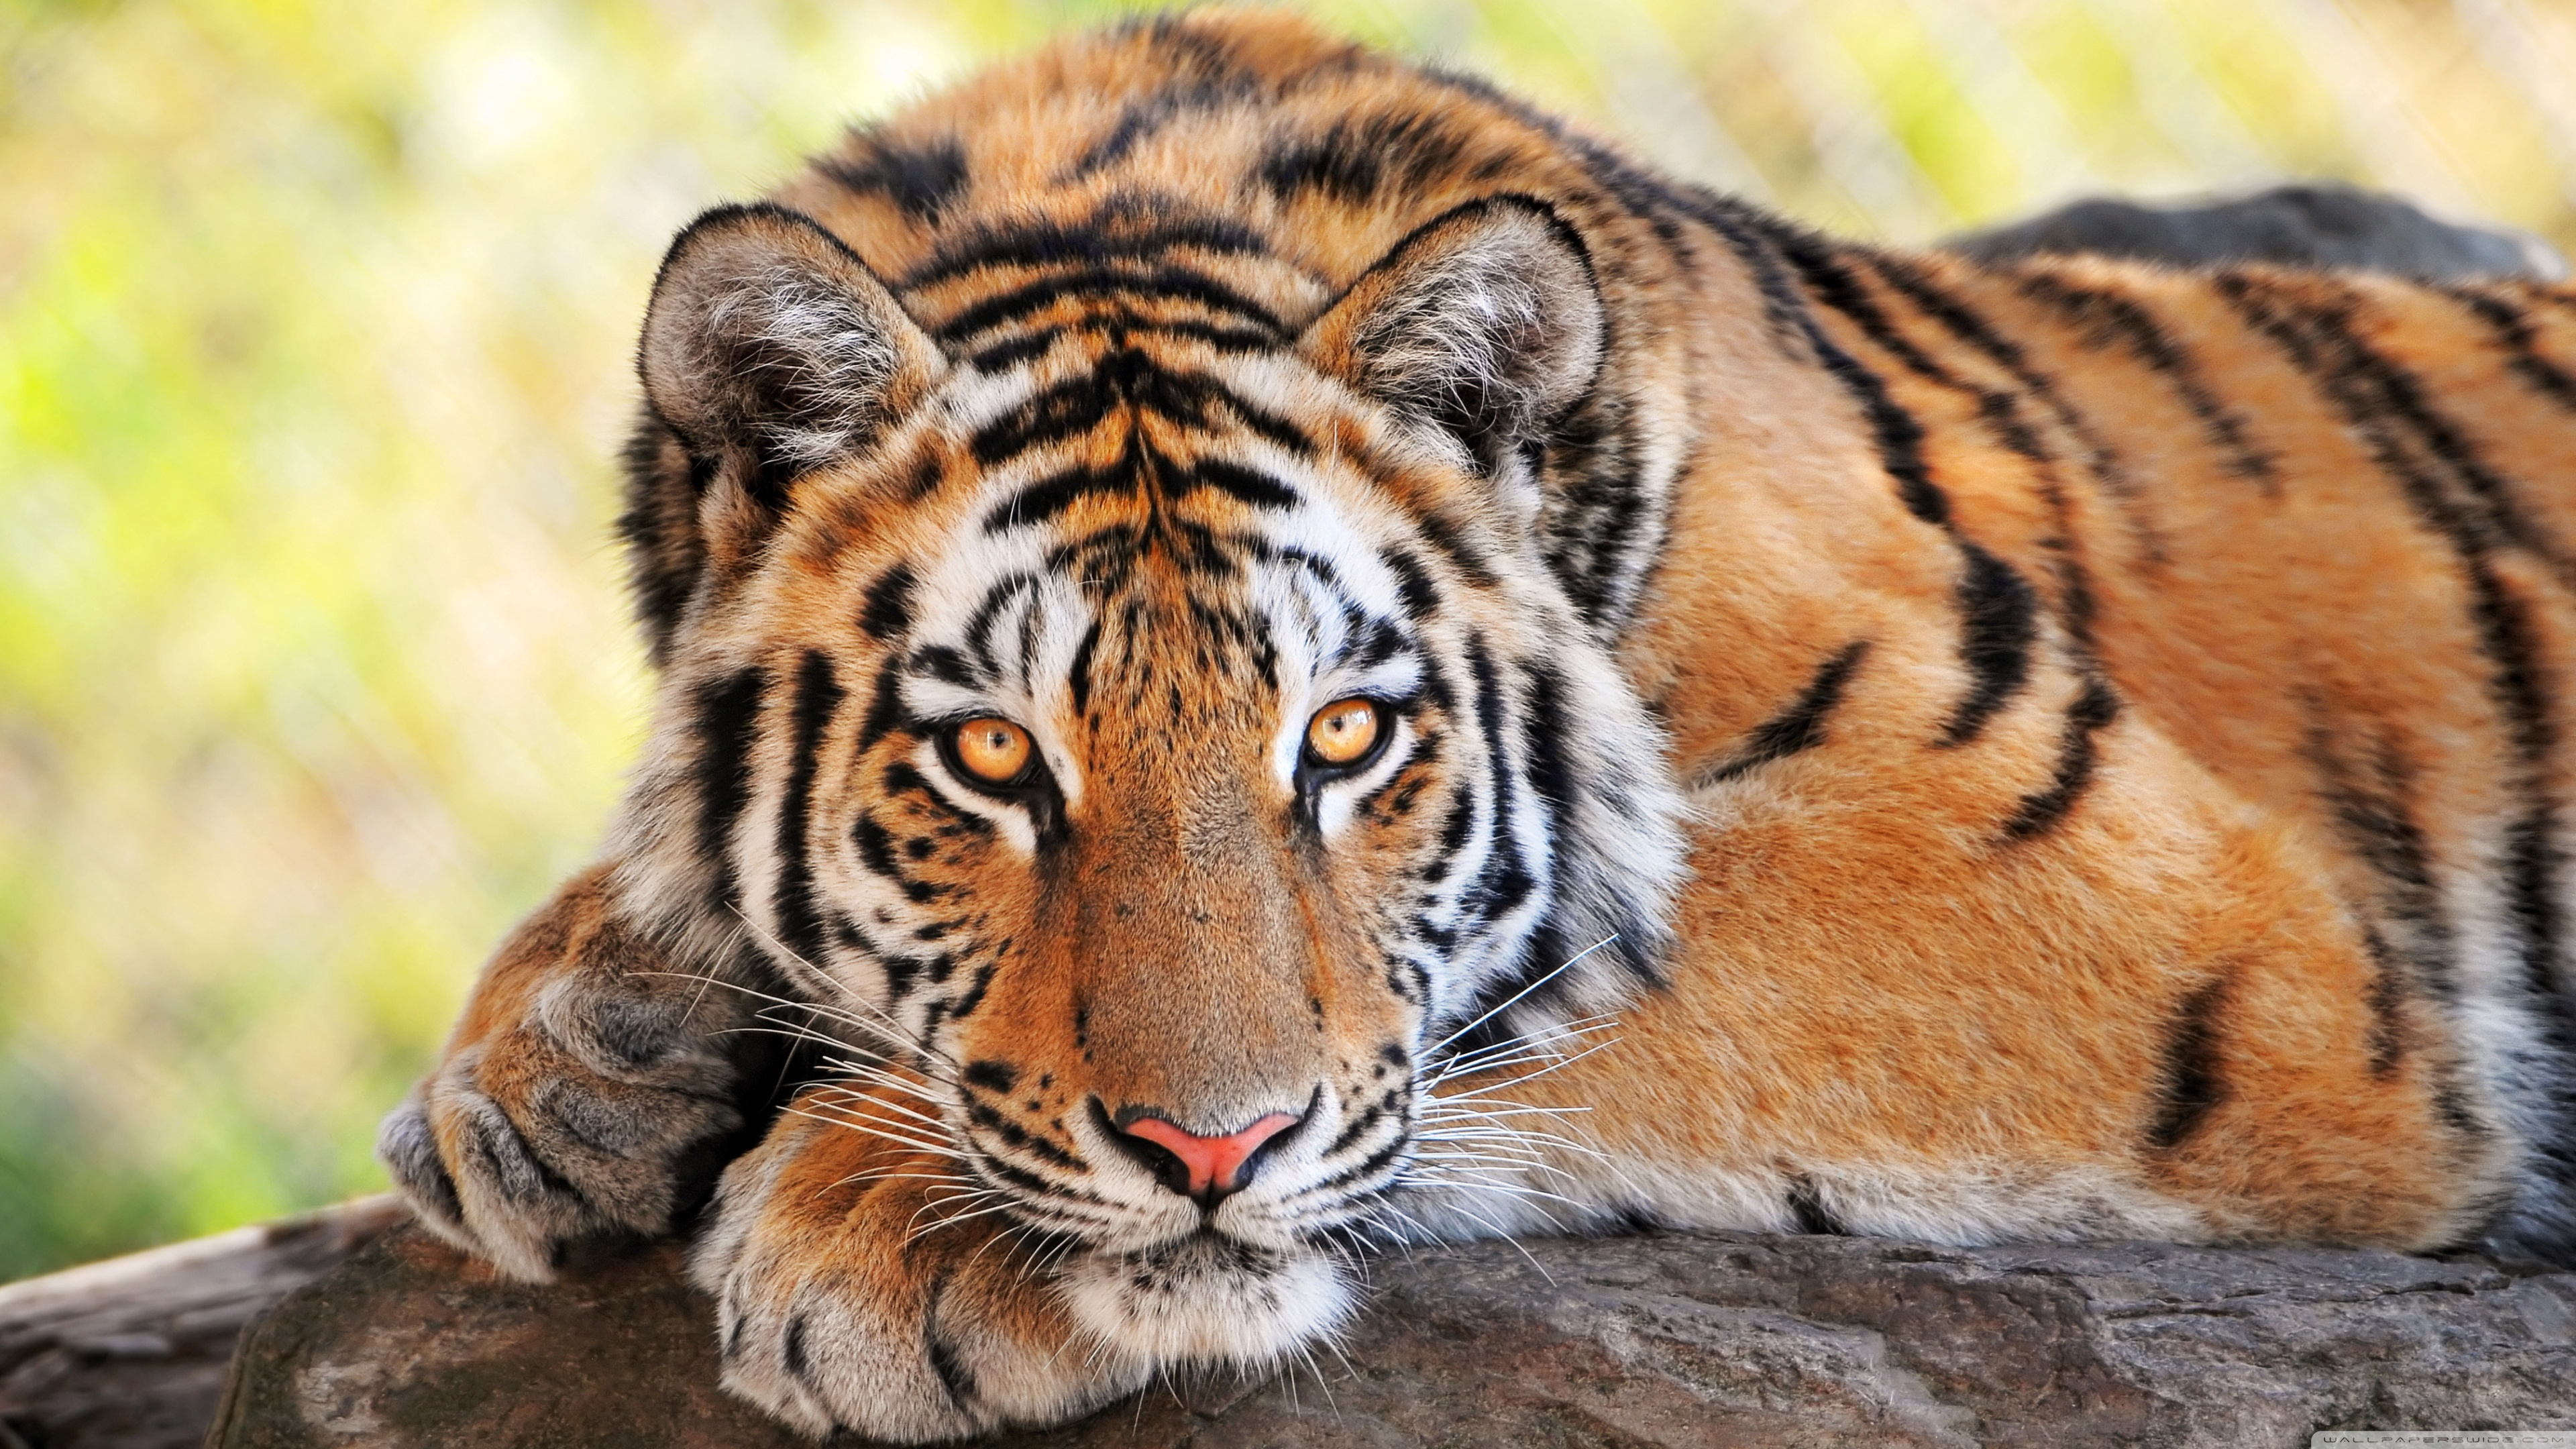tiger: (347, 48, 2576, 1415)
